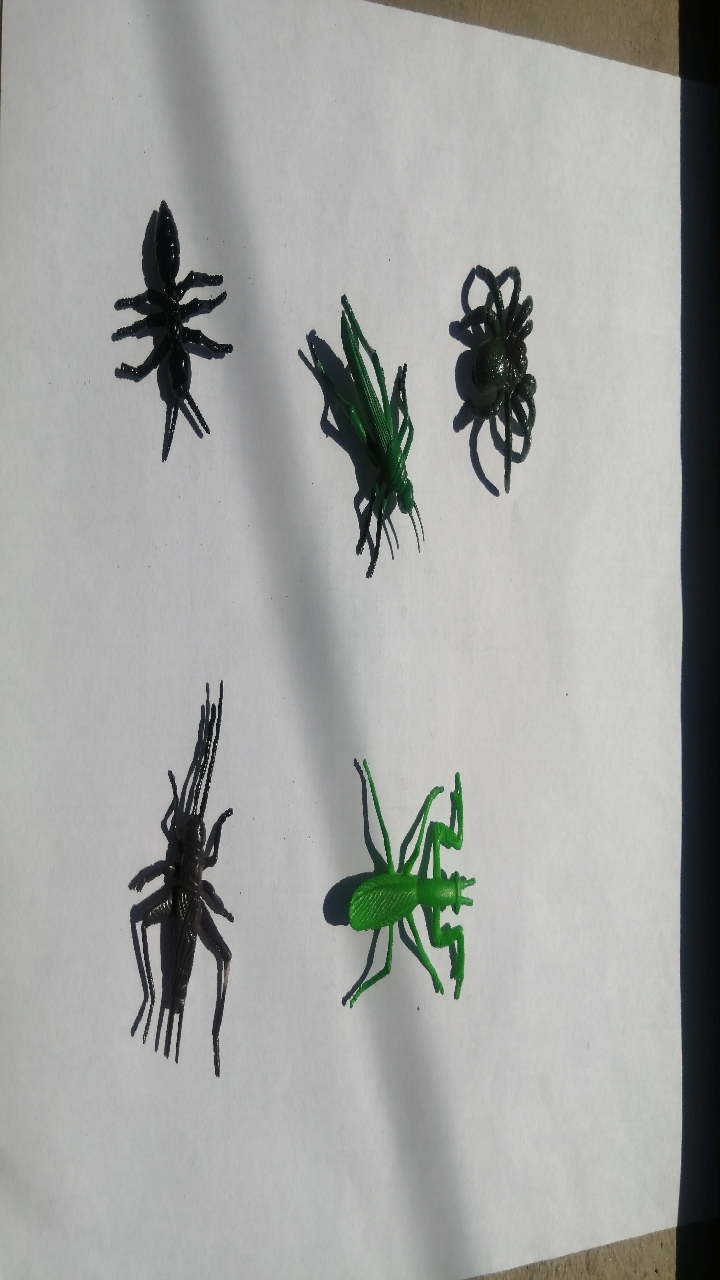intruso: (101, 655, 275, 1095), (331, 689, 520, 1059), (266, 229, 441, 600), (97, 165, 260, 489), (440, 208, 564, 526)
